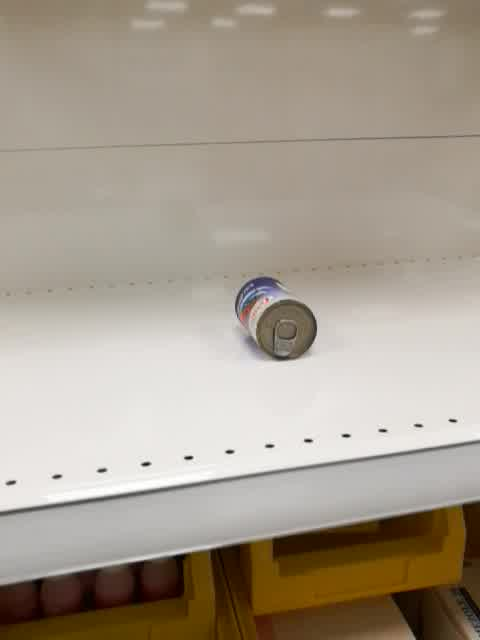sardine: (234, 277, 319, 361)
